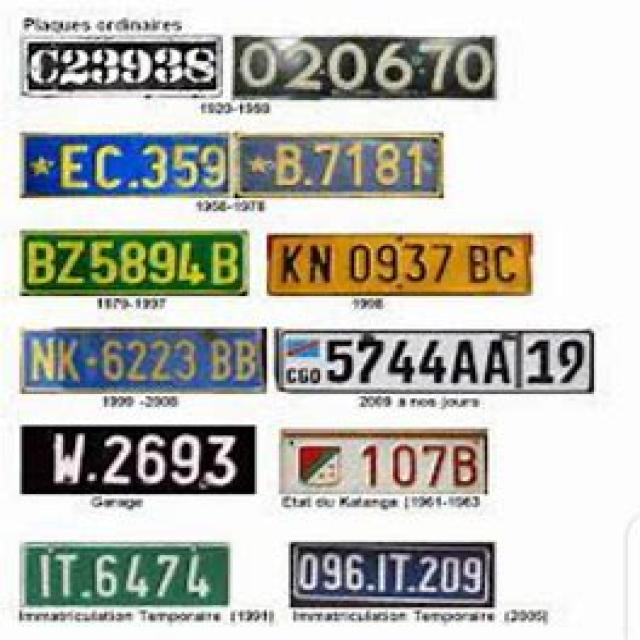Plaque: (274, 329, 594, 394), (236, 36, 497, 96), (267, 232, 531, 289), (23, 428, 256, 492), (27, 329, 266, 391), (22, 232, 248, 295), (25, 543, 233, 606), (25, 132, 233, 194), (287, 432, 488, 495), (287, 543, 494, 600), (239, 136, 441, 194), (25, 36, 224, 90)
